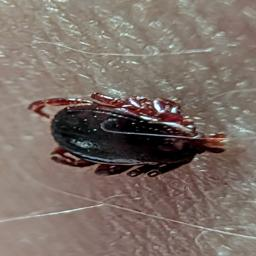Rhipicephalus sanguineus: (25, 95, 225, 178)
